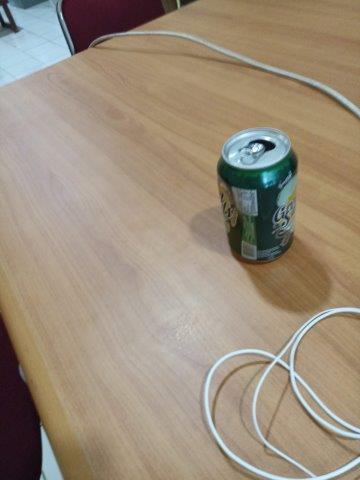kaleng: (216, 126, 298, 263)
